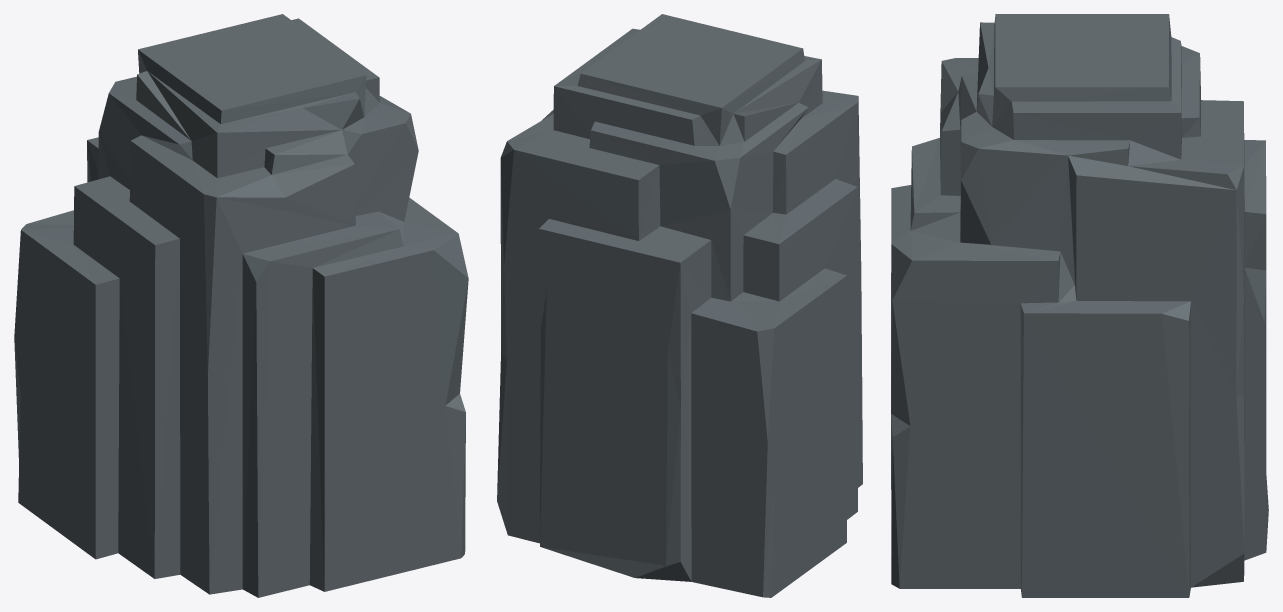
The model's file is Rock_Layered_3.fbx.
The picture shows the model from 3 angles, left to right: view 1: azimuth 30°, elevation 25°; view 2: azimuth 150°, elevation 25°; view 3: azimuth 270°, elevation 25°; orthographic projection. The views are drawn at different scales.
Parts seen in each view (by area): view 1: Group42589; view 2: Group42589; view 3: Group42589.
Part boxes in pixels (box(x1,y1,x2,y2)): Group42589: box(14, 14, 468, 597); Group42589: box(497, 14, 862, 597); Group42589: box(891, 14, 1268, 597).
Bounding box in the file's own units: 207 × 300 × 216.
